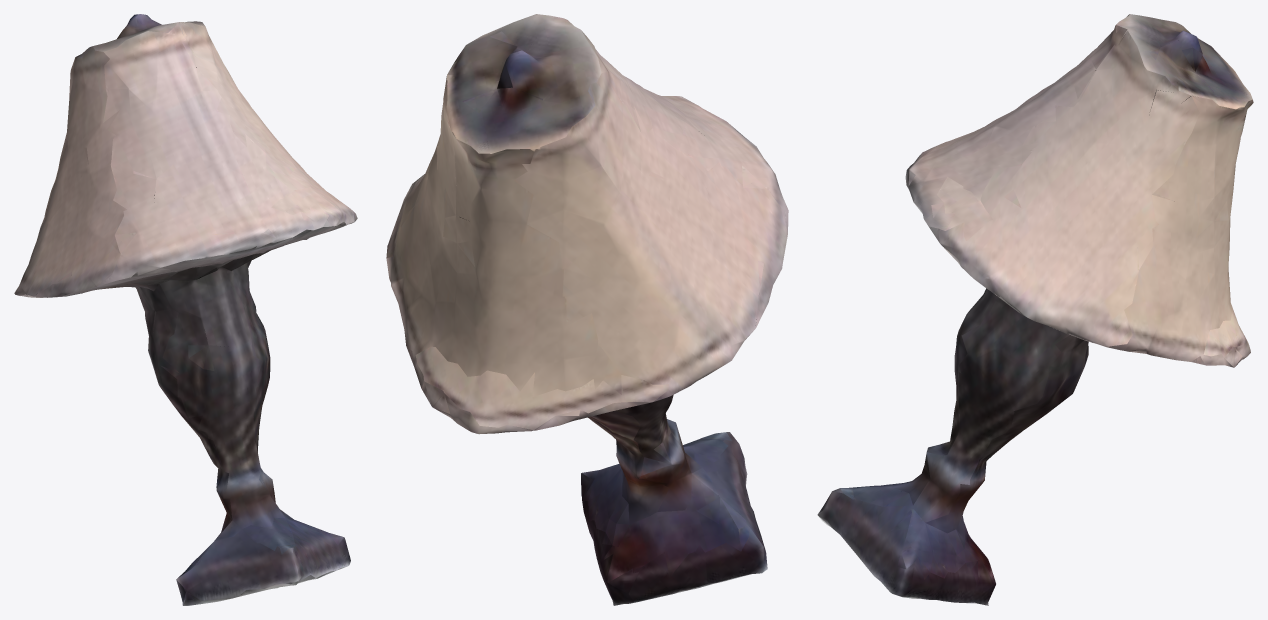
3 renders of one model, left to right at view 1: azimuth 30°, elevation 25°; view 2: azimuth 150°, elevation 25°; view 3: azimuth 270°, elevation 25°, orthographic. The views are drawn at different scales.
Parts seen in each view (by area): view 1: world; view 2: world; view 3: world.
Part boxes in pixels (x1,y1,x2,y2): world: (14,14,357,605); world: (386,14,788,605); world: (817,14,1253,605).
Size of the model in its own units: 0.2953 by 0.4937 by 0.3394.
Materials: 1 (1 with a texture image).
